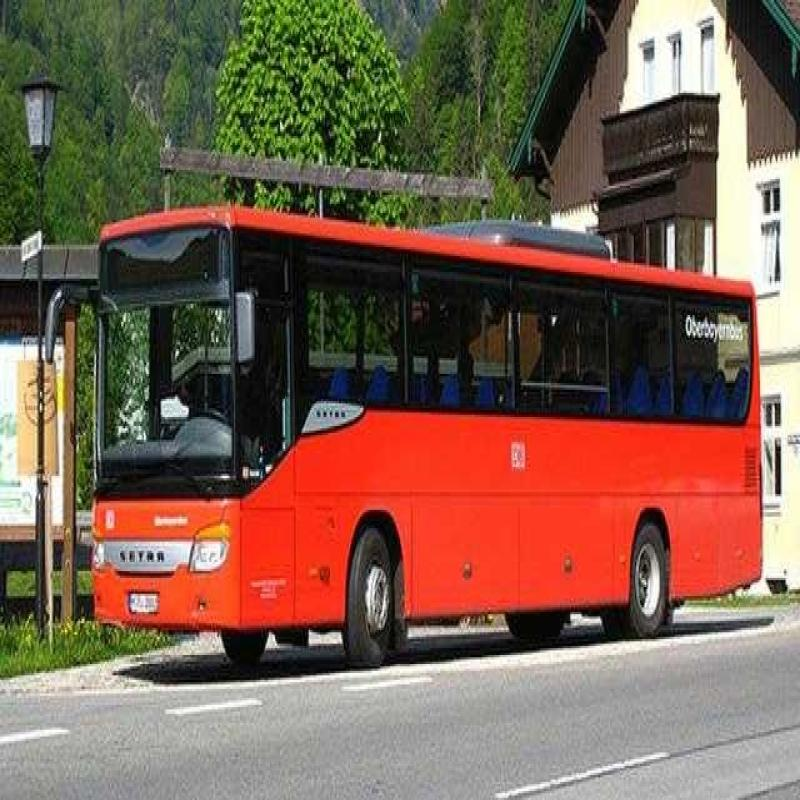bus: (84, 175, 763, 663)
